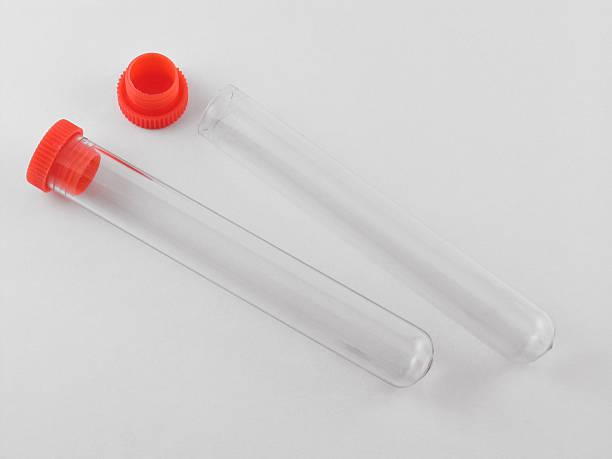Test tube: (31, 86, 560, 394)
